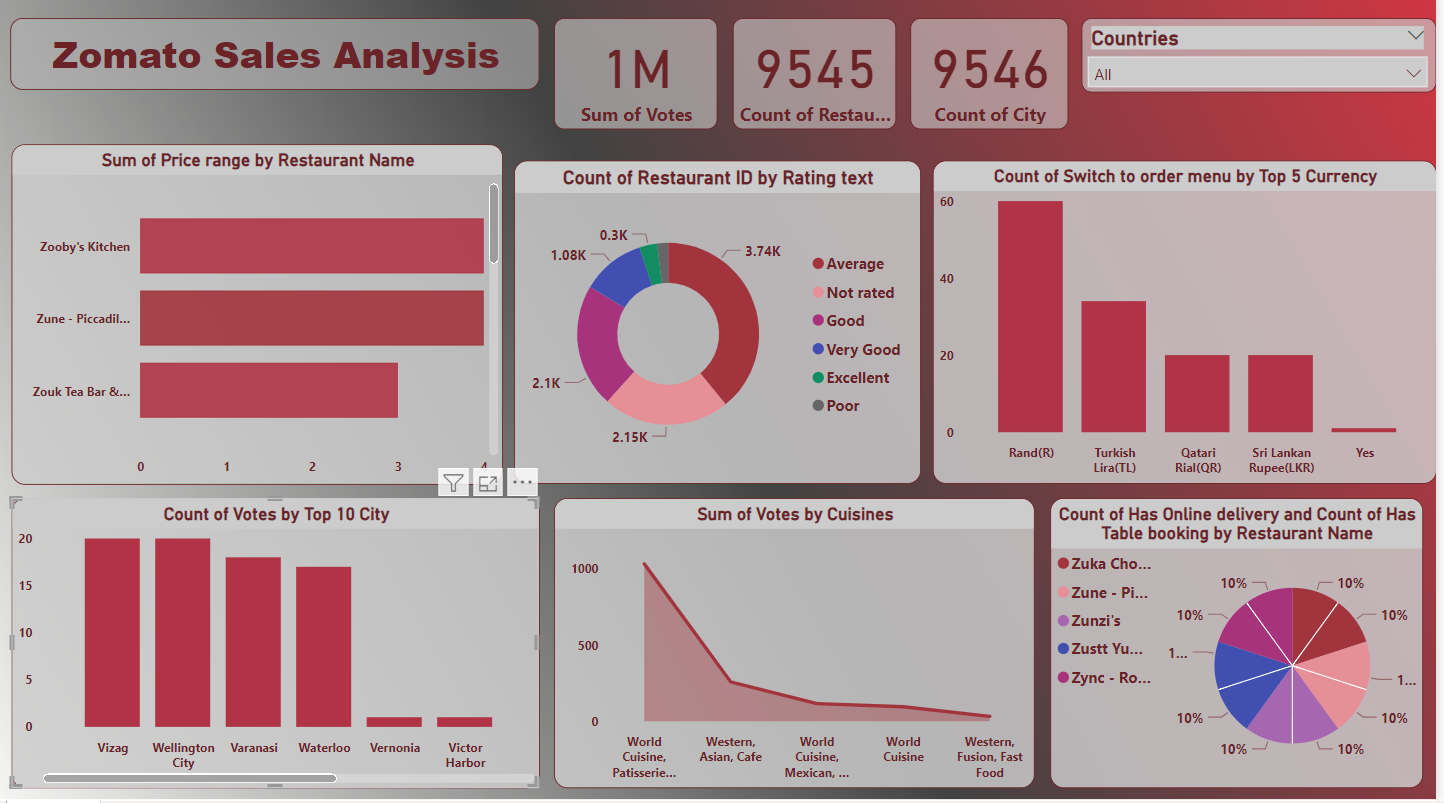

Layout of this report page (visuals, bound fields, positions):
{"tool":"powerbi","page":{"name":"Page 1","canvas":[1280,720],"ordinal":0},"visuals":[{"type":"barChart","fields":{"Category":["zomato.Restaurant Name"],"Y":["Sum(zomato.Price range)"]},"box":[11,134.5,437.7,303.3],"z":0},{"type":"clusteredColumnChart","title":"Count of Votes by Top 10 City","fields":{"Y":["Count(zomato.Votes)"],"Category":["zomato.City"]},"box":[10.9,449.8,470.4,258.1],"z":1000},{"type":"pieChart","fields":{"Y":["CountNonNull(zomato.Has Online delivery)","CountNonNull(zomato.Has Table booking)"],"Category":["zomato.Restaurant Name"]},"box":[935.9,449.8,331.7,258.1],"z":2000},{"type":"areaChart","fields":{"Category":["zomato.Cuisines"],"Y":["Sum(zomato.Votes)"]},"box":[494.5,449.8,428.1,258.1],"z":3000},{"type":"lineStackedColumnComboChart","title":"Count of Switch to order menu by Top 5 Currency","fields":{"Category":["zomato.Currency"],"Y":["CountNonNull(zomato.Switch to order menu)"]},"box":[831,149.5,448.6,288.2],"z":4000},{"type":"donutChart","fields":{"Category":["zomato.Rating text"],"Y":["CountNonNull(zomato.Restaurant ID)"]},"box":[458.3,149.6,362.3,288.2],"z":5000},{"type":"card","fields":{"Values":["Sum(zomato.Votes)"]},"box":[494.5,21.7,145.9,98.9],"z":6000},{"type":"card","fields":{"Values":["CountNonNull(zomato.Restaurant ID)"]},"box":[653.7,21.7,145.9,98.9],"z":7000},{"type":"card","fields":{"Values":["CountNonNull(zomato.City)"]},"box":[811.7,21.7,141.1,98.9],"z":8000},{"type":"slicer","fields":{"Values":["zomato.City"]},"box":[963.6,21.7,316,66.3],"z":9000},{"type":"textbox","box":[9.6,21.7,471.6,64],"z":10000}]}

Visuals, with their boxes in screenshot pixels (x1, y1, x2, y2), scaled from the page's 1280x720 canvas onto the 1444x803 screenshot:
barChart - zomato.Restaurant Name x Sum(zomato.Price range): bbox(12, 150, 506, 488)
"Count of Votes by Top 10 City" clusteredColumnChart: bbox(12, 502, 543, 790)
pieChart - CountNonNull(zomato.Has Online delivery) x CountNonNull(zomato.Has Table booking): bbox(1056, 502, 1430, 790)
areaChart - zomato.Cuisines x Sum(zomato.Votes): bbox(558, 502, 1041, 790)
"Count of Switch to order menu by Top 5 Currency" lineStackedColumnComboChart: bbox(937, 167, 1443, 488)
donutChart - zomato.Rating text x CountNonNull(zomato.Restaurant ID): bbox(517, 167, 926, 488)
card - Sum(zomato.Votes): bbox(558, 24, 722, 135)
card - CountNonNull(zomato.Restaurant ID): bbox(737, 24, 902, 135)
card - CountNonNull(zomato.City): bbox(916, 24, 1075, 135)
slicer - zomato.City: bbox(1087, 24, 1443, 98)
textbox: bbox(11, 24, 543, 96)
